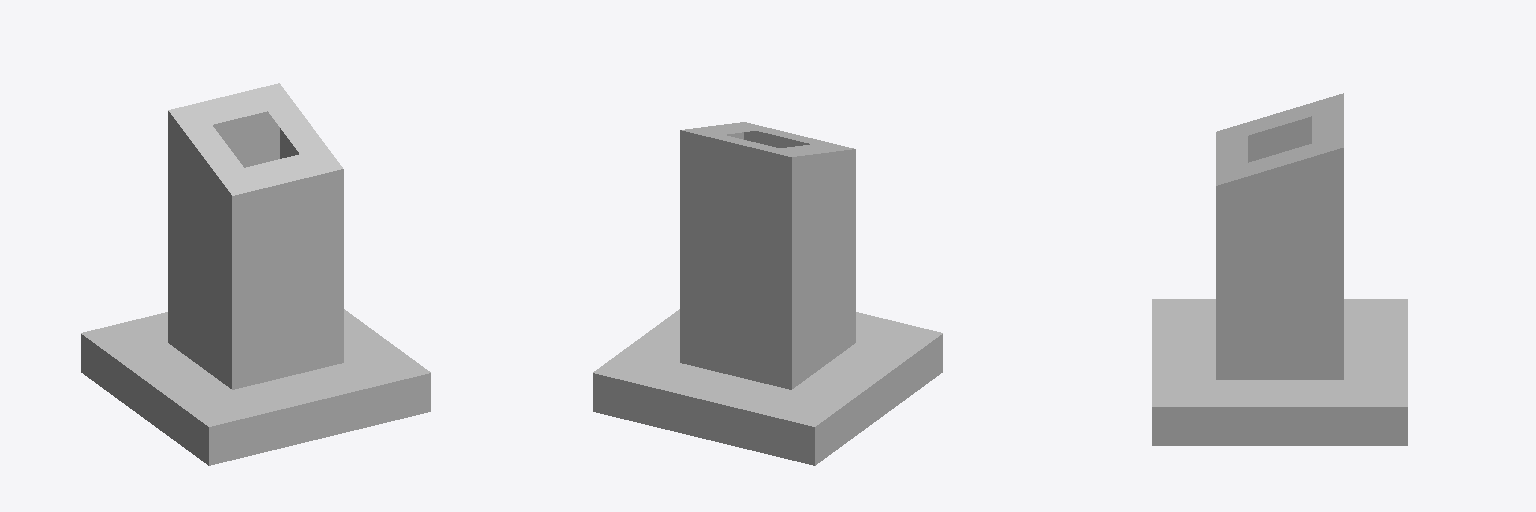
File: L3ButtonStand.obj
3 renders of one model, left to right at view 1: azimuth 30°, elevation 25°; view 2: azimuth 150°, elevation 25°; view 3: azimuth 270°, elevation 25°, orthographic.
Visible parts, largest first — view 1: Cube.010_Cube.018; view 2: Cube.010_Cube.018; view 3: Cube.010_Cube.018.
Part boxes in pixels (x1,y1,x2,y2): Cube.010_Cube.018: (81, 83, 430, 465); Cube.010_Cube.018: (593, 122, 942, 465); Cube.010_Cube.018: (1152, 93, 1407, 445).
Size of the model in its own units: 1.8 by 2.1 by 1.8.